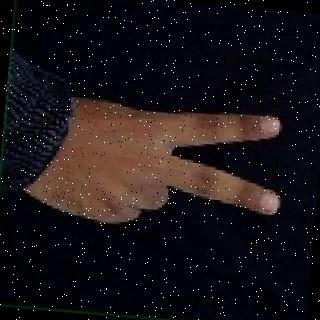V: (35, 92, 290, 248)
